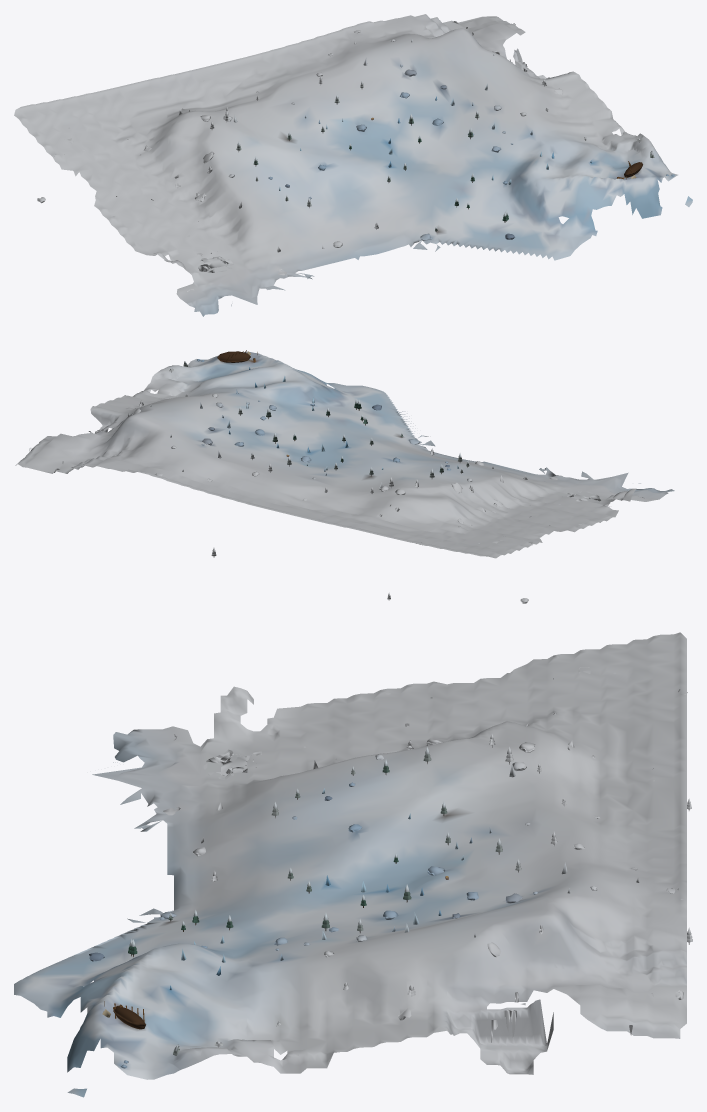
Rendered from frost_isl_frozen_wreck_lod1.glb.
3 views of the same model, one above another, from view 1: azimuth 30°, elevation 25°; view 2: azimuth 150°, elevation 25°; view 3: azimuth 270°, elevation 25° (orthographic). The views are drawn at different scales.
Visible parts, largest first — view 1: frost_isl_frozen_wreck_lod1; view 2: frost_isl_frozen_wreck_lod1; view 3: frost_isl_frozen_wreck_lod1.
Boxes of the visible parts, x1=… form: frost_isl_frozen_wreck_lod1: x1=14, y1=14, x2=692, y2=316; frost_isl_frozen_wreck_lod1: x1=15, y1=350, x2=674, y2=603; frost_isl_frozen_wreck_lod1: x1=14, y1=632, x2=692, y2=1097.
Size of the model in its own units: 269 by 44.21 by 204.
